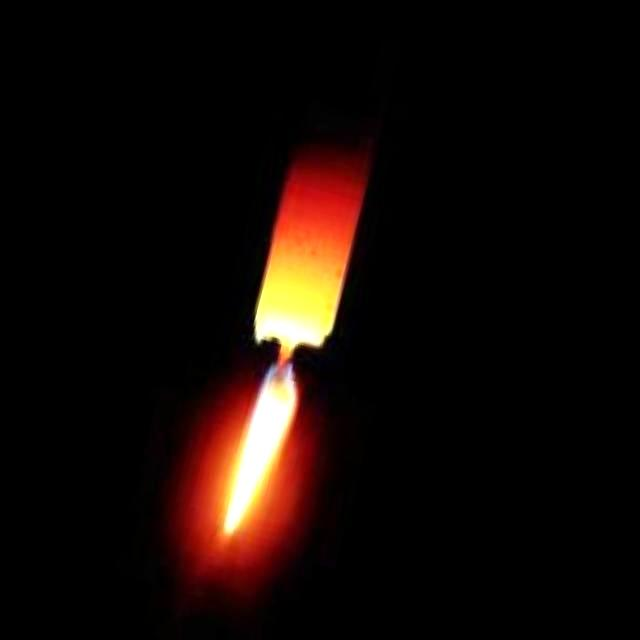fire: (225, 352, 308, 540)
